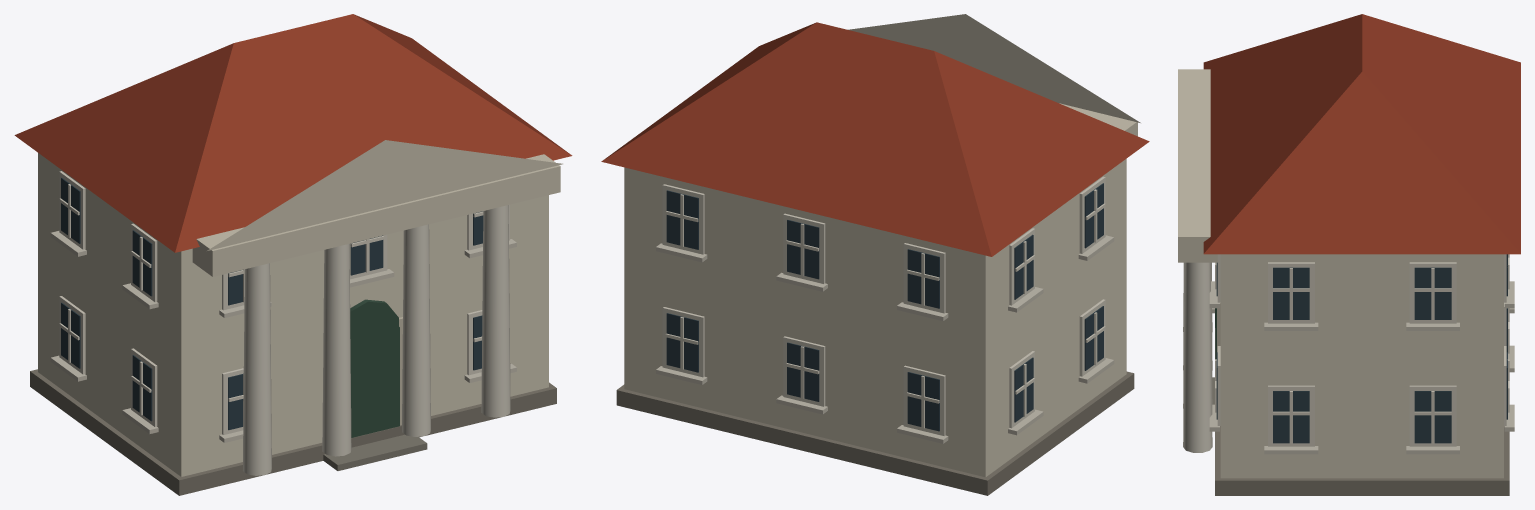
The model's file is procedural_library@4.glb.
The picture shows the model from 3 angles, left to right: view 1: azimuth 30°, elevation 25°; view 2: azimuth 150°, elevation 25°; view 3: azimuth 270°, elevation 25°; orthographic projection.
Parts seen in each view (by area): view 1: part_0; view 2: part_0; view 3: part_0.
Boxes of the visible parts, bbox=[...] form: part_0: bbox=[14, 14, 572, 495]; part_0: bbox=[601, 14, 1149, 495]; part_0: bbox=[1178, 14, 1520, 495].
Bounding box in the file's own units: 8 × 7.05 × 6.05.
